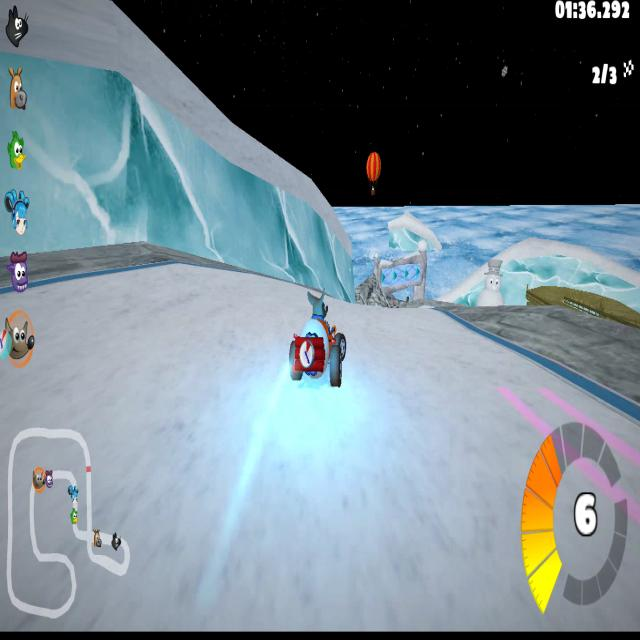player_kart: (289, 288, 346, 394)
track: (349, 297, 431, 387)
